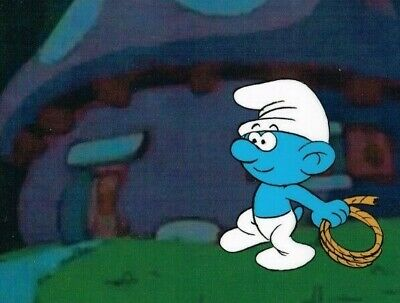smurf: (218, 78, 352, 272)
